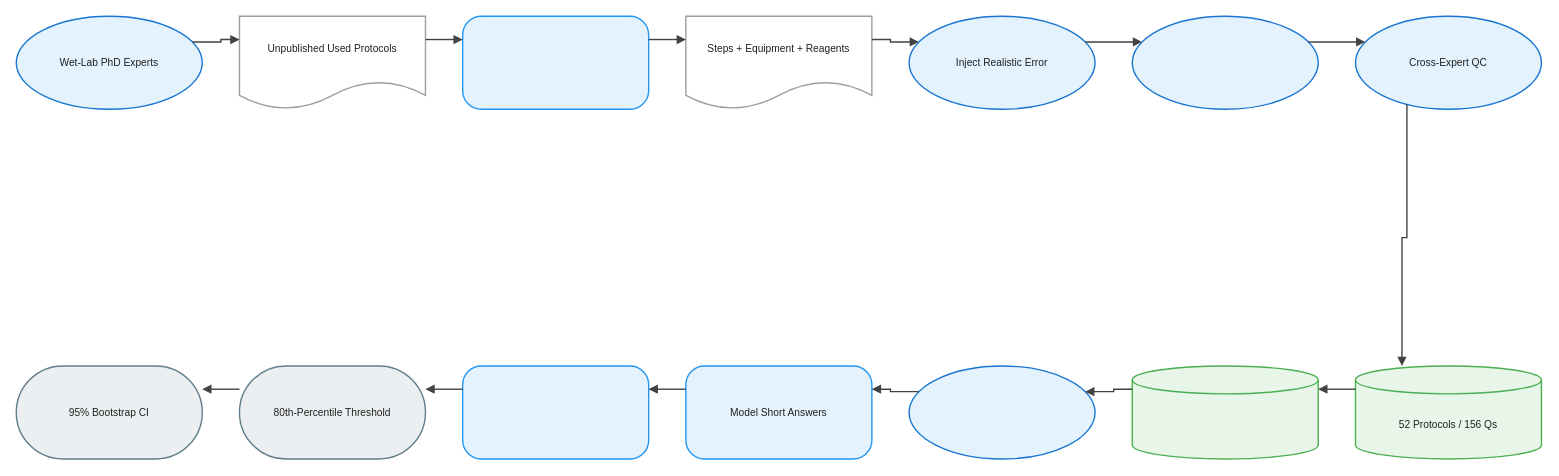
Some shapes in this 1559 by 476 pixel diagram are drawn without their labels. Each missing label, with the centre of its shape:
"12-Expert Baseline" belongs at pixel 1001 412.
"3 Short-Answer Qs" belongs at pixel 1225 62.
"52-Q Diamond Set" belongs at pixel 1225 412.
"Correctness Score" belongs at pixel 555 412.
"Publication-Change Guard" belongs at pixel 555 62.
